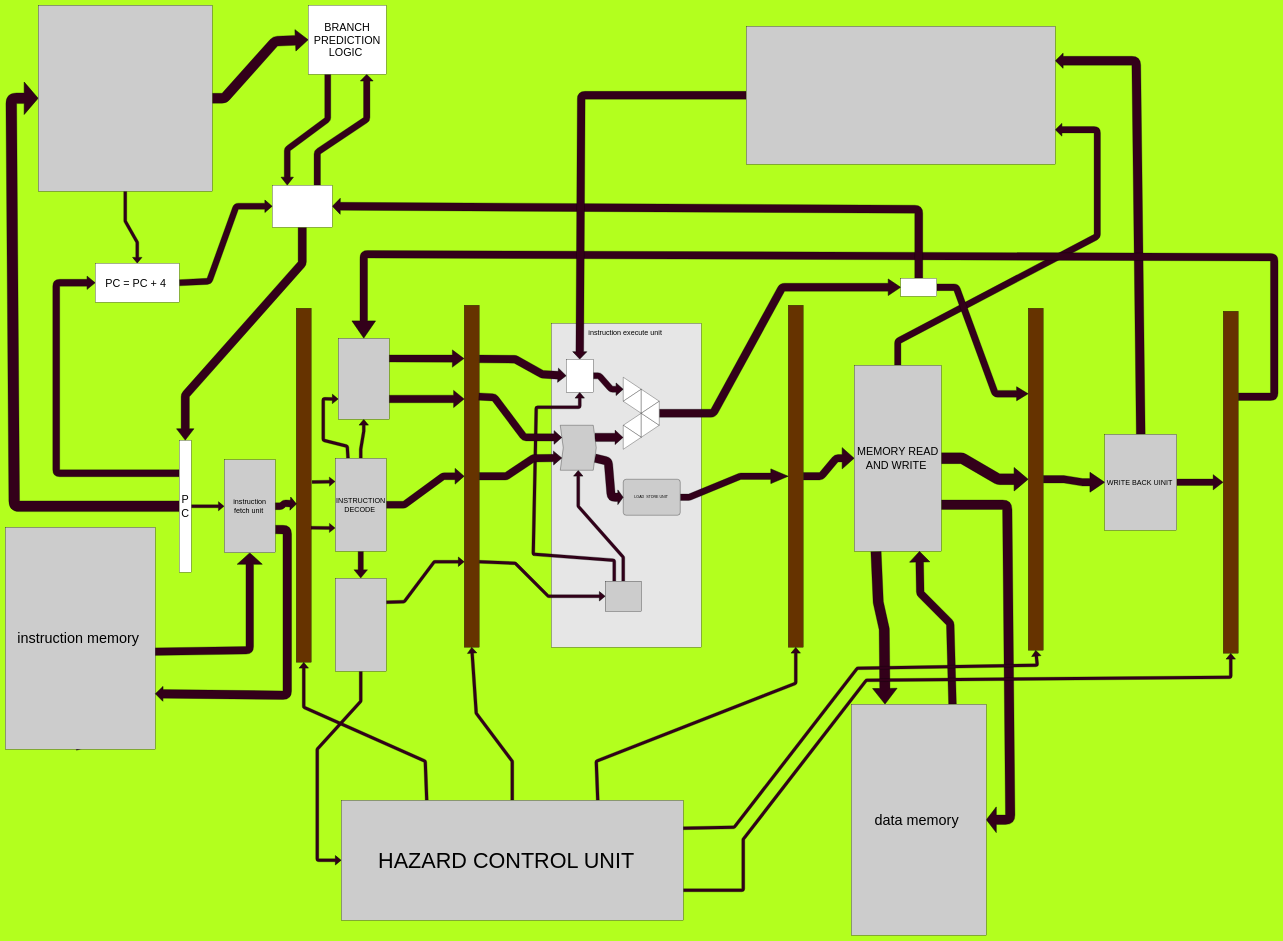
Some shapes in this 1283 by 941 pixel diagram are drawn without their labels. Each missing label, with the centre of its shape:
"branch target buffer" goes at (125,98).
"control unit" goes at (360,624).
"EXECUTION CONTROL UNIT" goes at (623,596).
"forwarding unit" goes at (900,95).
"register file" goes at (363,378).
